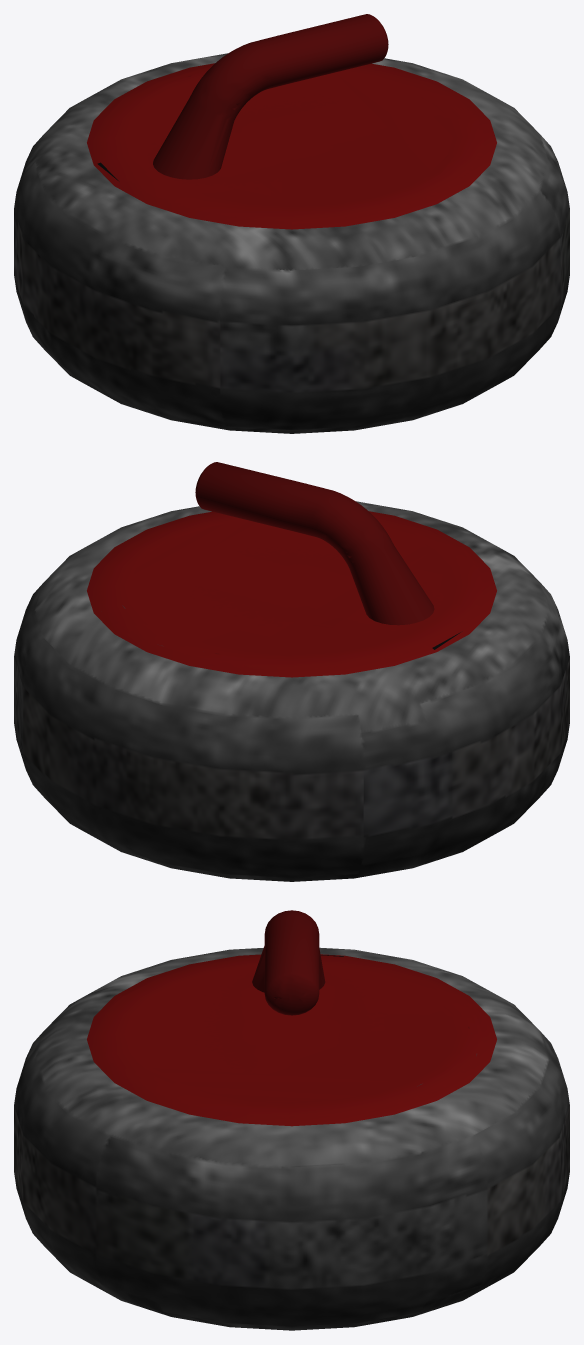
Rendered from stone4.fbx.
3 views of the same model, one above another, from view 1: azimuth 30°, elevation 25°; view 2: azimuth 150°, elevation 25°; view 3: azimuth 270°, elevation 25° (orthographic).
Parts seen in each view (by area): view 1: stone; view 2: stone; view 3: stone.
Boxes of the visible parts, x1,y1,x2,y2 form: stone: (14,14,569,433); stone: (14,462,569,881); stone: (14,910,569,1330).
Size of the model in its own units: 1146 by 688 by 1146.
